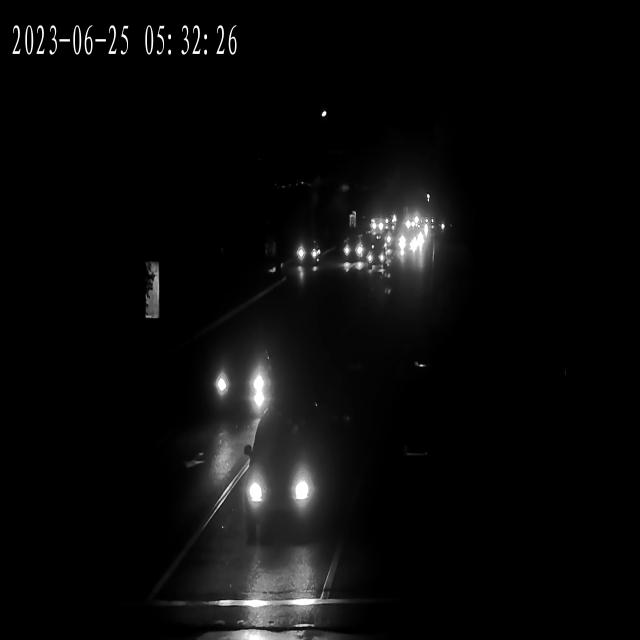Car: (240, 418, 330, 533), (205, 332, 277, 420), (291, 228, 326, 268), (362, 240, 390, 285), (400, 200, 424, 240), (340, 239, 362, 276), (360, 210, 382, 242), (397, 238, 420, 261)
